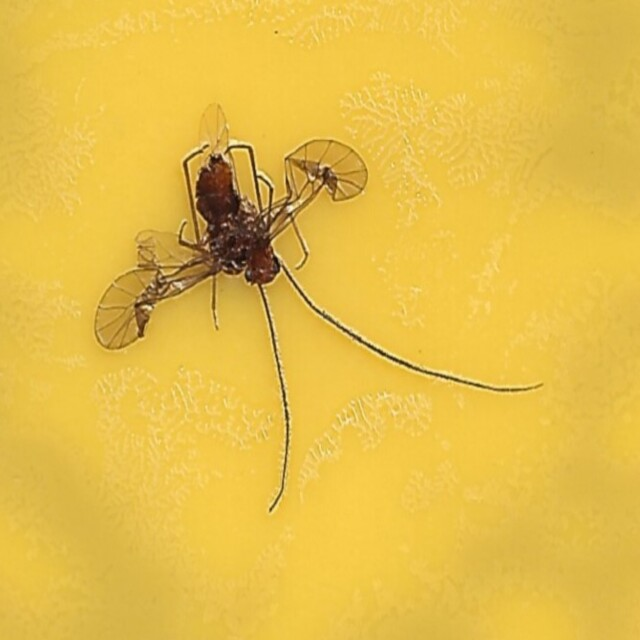Psocoptera: (96, 120, 544, 520)
